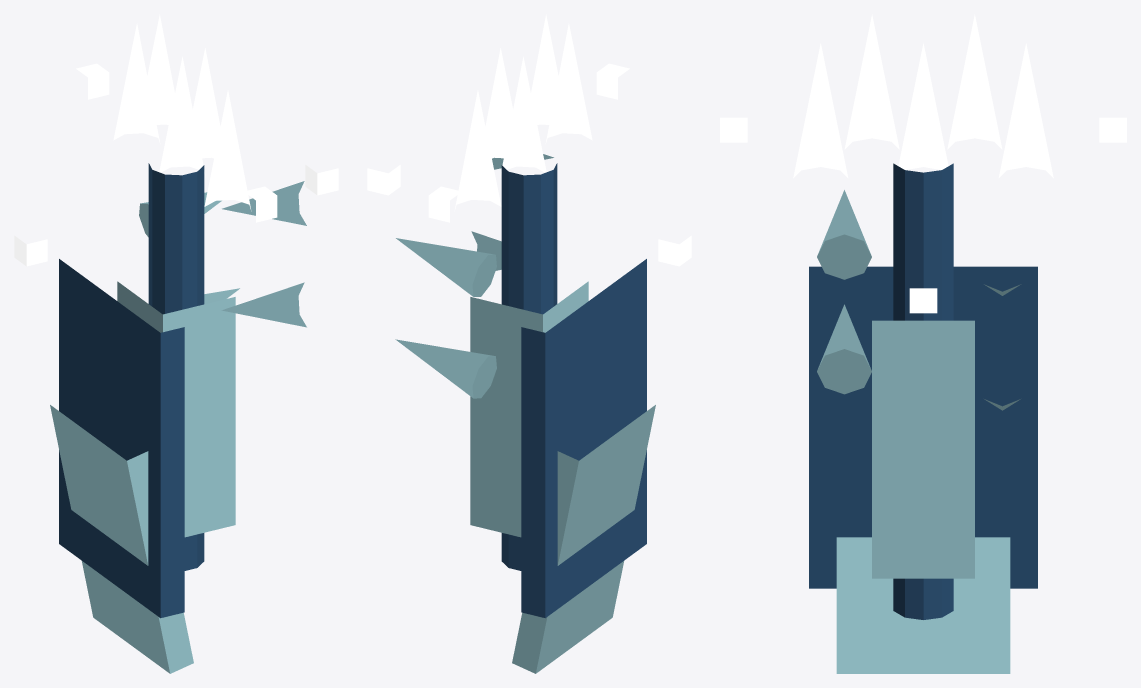
File: ancient-apparition.glb
3 views of the same model, side by side, from view 1: azimuth 30°, elevation 25°; view 2: azimuth 150°, elevation 25°; view 3: azimuth 270°, elevation 25° (orthographic). The views are drawn at different scales.
Visible parts, largest first — view 1: ancient-apparition-replacement-ghost-shroud, ancient-apparition-ragged-tail, ancient-apparition-replacement-ghost-core, ancient-apparition-wraith-spine, ancient-apparition-ice-crown-4, ancient-apparition-ice-crown-3, ancient-apparition-ice-crown-1, ancient-apparition-ice-crown-0, ancient-apparition-ice-crown-2, ancient-apparition-ice-rib-1, ancient-apparition-ice-rib-3, ancient-apparition-flair-mote-0 (+3 smaller); view 2: ancient-apparition-replacement-ghost-shroud, ancient-apparition-ragged-tail, ancient-apparition-replacement-ghost-core, ancient-apparition-wraith-spine, ancient-apparition-ice-rib-0, ancient-apparition-ice-rib-2, ancient-apparition-ice-crown-0, ancient-apparition-ice-crown-1, ancient-apparition-ice-crown-3, ancient-apparition-ice-crown-4, ancient-apparition-ice-crown-2, ancient-apparition-flair-mote-0 (+4 smaller); view 3: ancient-apparition-replacement-ghost-shroud, ancient-apparition-replacement-ghost-core, ancient-apparition-ragged-tail, ancient-apparition-wraith-spine, ancient-apparition-ice-crown-0, ancient-apparition-ice-crown-4, ancient-apparition-ice-crown-1, ancient-apparition-ice-crown-3, ancient-apparition-ice-crown-2, ancient-apparition-ice-rib-1, ancient-apparition-ice-rib-3, ancient-apparition-flair-mote-0 (+2 smaller).
Boxes of the visible parts, x1,y1,x2,y2 form: ancient-apparition-replacement-ghost-shroud: (59,259,184,618); ancient-apparition-ragged-tail: (50,405,193,673); ancient-apparition-replacement-ghost-core: (117,281,235,537); ancient-apparition-wraith-spine: (148,163,204,570); ancient-apparition-ice-crown-4: (204,90,251,211); ancient-apparition-ice-crown-3: (181,48,220,164); ancient-apparition-ice-crown-1: (136,14,174,131); ancient-apparition-ice-crown-0: (113,23,160,143); ancient-apparition-ice-crown-2: (159,56,205,177); ancient-apparition-ice-rib-1: (221,282,306,327); ancient-apparition-ice-rib-3: (222,181,306,225); ancient-apparition-flair-mote-0: (305,165,338,195); ancient-apparition-replacement-ghost-shroud: (521,259,646,618); ancient-apparition-ragged-tail: (512,405,655,673); ancient-apparition-replacement-ghost-core: (470,281,588,537); ancient-apparition-wraith-spine: (501,163,557,570); ancient-apparition-ice-rib-0: (395,339,496,398); ancient-apparition-ice-rib-2: (396,238,496,296); ancient-apparition-ice-crown-0: (454,90,501,211); ancient-apparition-ice-crown-1: (485,48,524,164); ancient-apparition-ice-crown-3: (531,14,569,131); ancient-apparition-ice-crown-4: (545,23,592,143); ancient-apparition-ice-crown-2: (500,56,546,177); ancient-apparition-flair-mote-0: (367,165,400,195); ancient-apparition-replacement-ghost-shroud: (809,266,1037,588); ancient-apparition-replacement-ghost-core: (872,320,974,578); ancient-apparition-ragged-tail: (836,537,1010,673); ancient-apparition-wraith-spine: (893,163,953,619); ancient-apparition-ice-crown-0: (998,43,1053,178); ancient-apparition-ice-crown-4: (793,43,848,178); ancient-apparition-ice-crown-1: (947,14,1002,149); ancient-apparition-ice-crown-3: (844,14,899,149); ancient-apparition-ice-crown-2: (898,43,948,169); ancient-apparition-ice-rib-1: (817,304,871,394); ancient-apparition-ice-rib-3: (817,190,871,279); ancient-apparition-flair-mote-0: (909,288,937,313).
Size of the model in its own units: 1.03 by 1.9 by 1.03.
